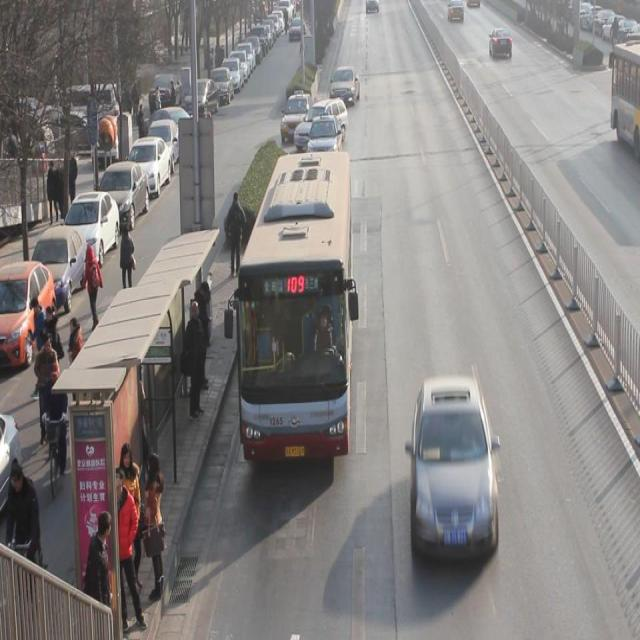car: (409, 378, 499, 561), (295, 99, 348, 150), (280, 91, 314, 145), (308, 111, 343, 158), (330, 64, 361, 108), (489, 26, 513, 58)
van: (237, 153, 351, 455), (608, 38, 640, 152)
